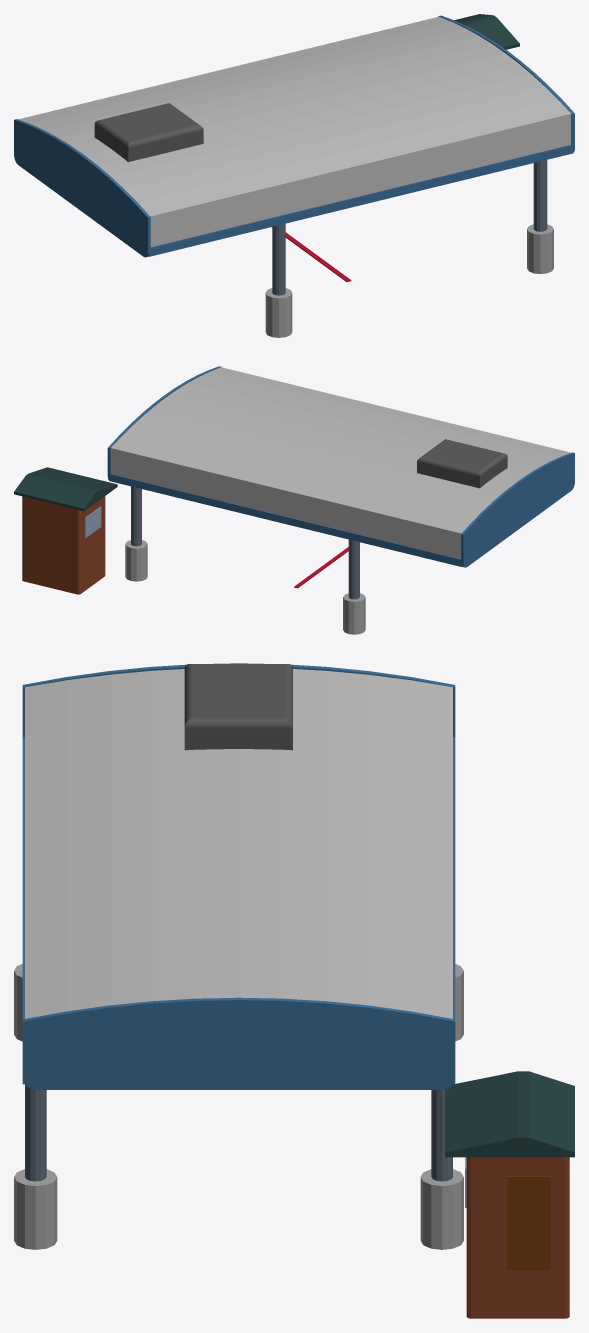
File: lift_terminal_wide.obj
3 views of the same model, one above another, from view 1: azimuth 30°, elevation 25°; view 2: azimuth 150°, elevation 25°; view 3: azimuth 270°, elevation 25° (orthographic). The views are drawn at different scales.
Bounding box in the file's own units: 17.3 × 5.92 × 10.35.
